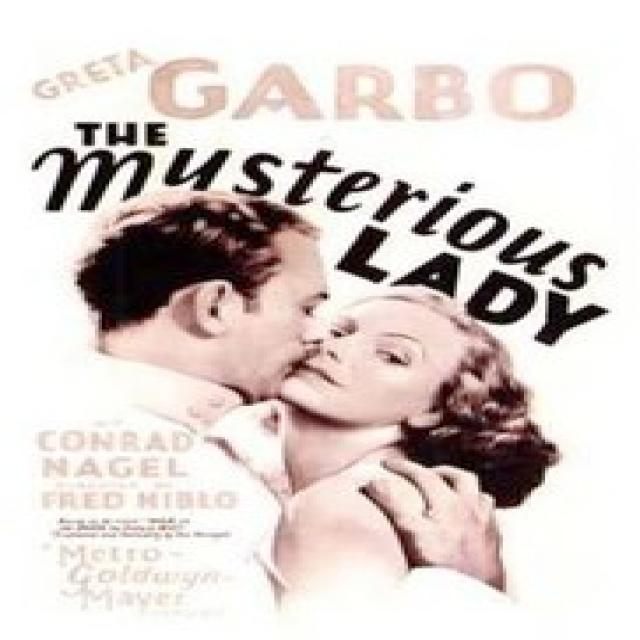movie-judul: (21, 115, 636, 336)
picture: (62, 196, 533, 632)
